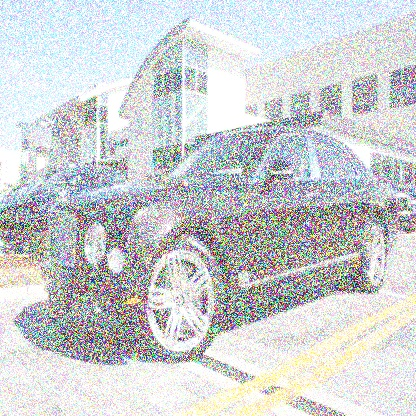Vehicle: (39, 127, 401, 360)
